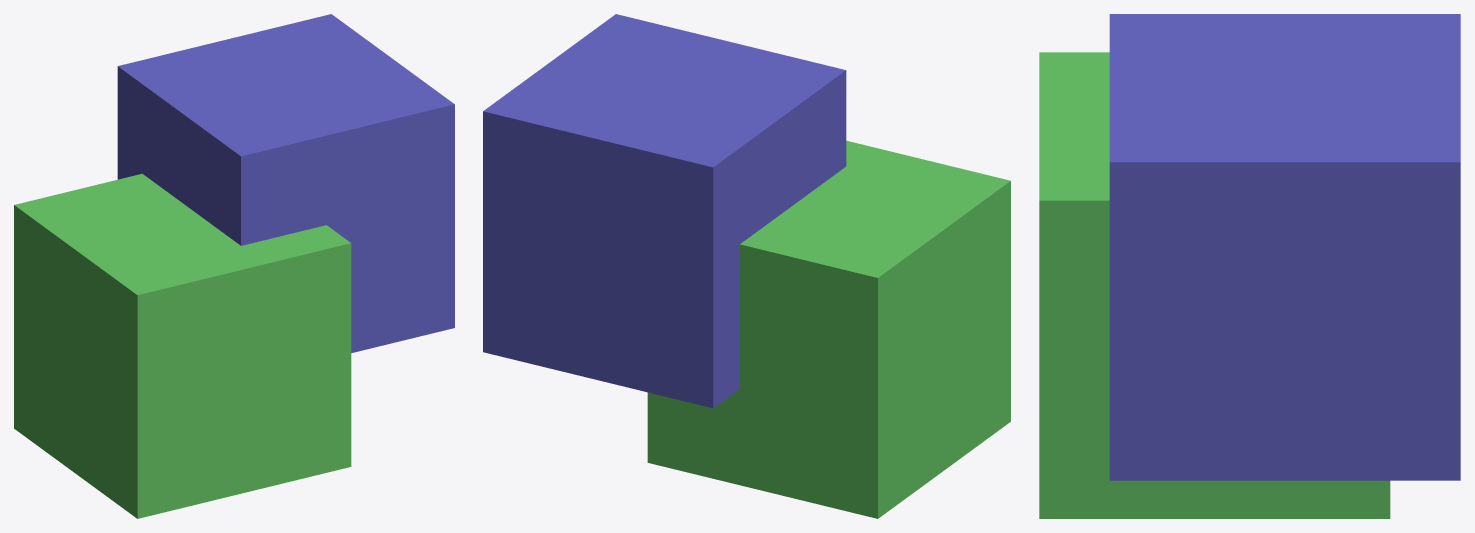
The picture shows the model from 3 angles, left to right: view 1: azimuth 30°, elevation 25°; view 2: azimuth 150°, elevation 25°; view 3: azimuth 270°, elevation 25°; orthographic projection. The views are drawn at different scales.
Bounding box in the file's own units: 0.008 × 0.007 × 0.006.
